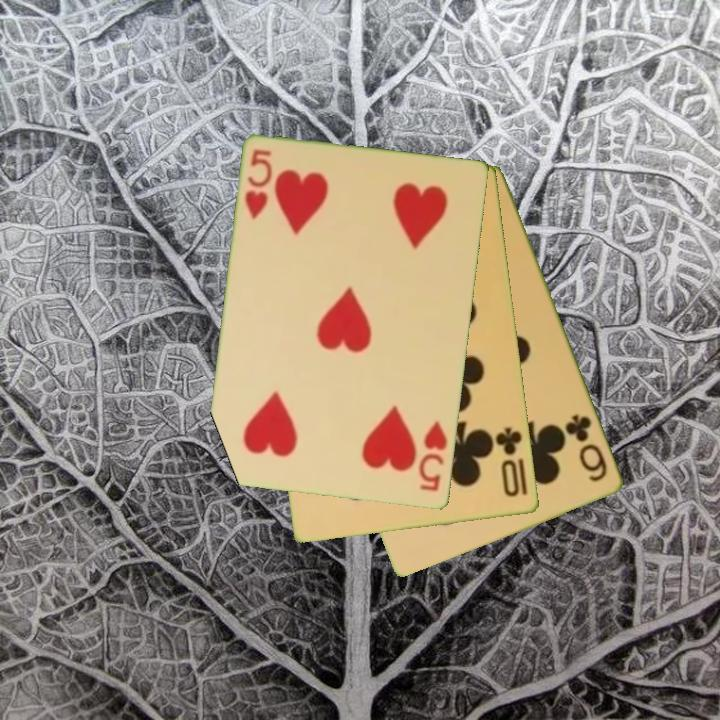10c: (492, 424, 526, 501)
5h: (415, 418, 451, 495), (241, 146, 276, 223)
6c: (562, 411, 611, 485)
